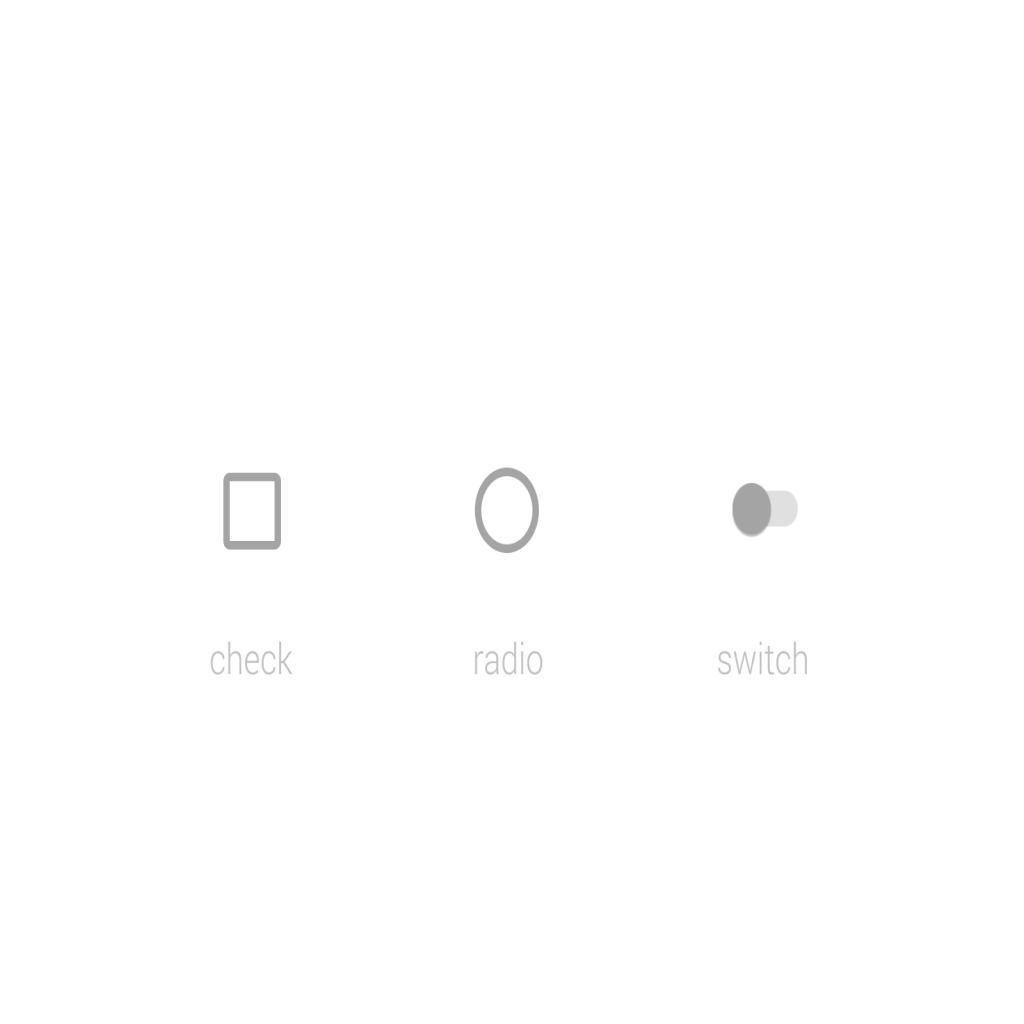checkbox: (226, 479, 281, 546)
radio: (469, 466, 544, 555)
switch: (732, 484, 802, 539)
